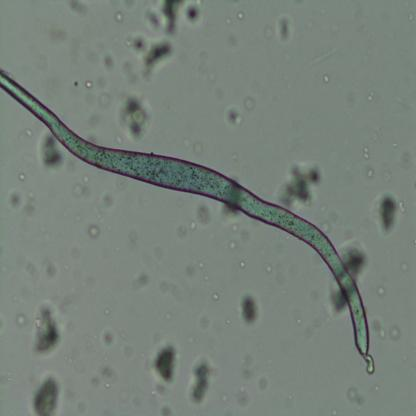Background material: (278, 160, 321, 206), (132, 34, 176, 78), (30, 299, 63, 357), (118, 87, 154, 139), (336, 233, 374, 279), (186, 354, 218, 405), (152, 342, 186, 388), (142, 0, 184, 36), (368, 187, 401, 231), (35, 378, 61, 416), (42, 129, 62, 172), (236, 290, 261, 323), (276, 9, 300, 42), (326, 277, 343, 318), (308, 45, 338, 68), (155, 279, 181, 302), (185, 0, 204, 30), (7, 184, 25, 214), (216, 202, 240, 223), (130, 271, 154, 291), (342, 387, 362, 410), (235, 382, 253, 406), (46, 22, 68, 40), (65, 0, 88, 17), (100, 52, 118, 73), (100, 330, 118, 350), (228, 107, 244, 129), (69, 183, 93, 197), (18, 124, 33, 144), (397, 148, 412, 168), (196, 206, 212, 224), (98, 365, 118, 379), (100, 192, 116, 209), (26, 191, 36, 217), (255, 374, 271, 390), (262, 26, 276, 42), (388, 326, 402, 342), (25, 262, 39, 278), (373, 321, 385, 339), (189, 141, 204, 155), (98, 94, 113, 108), (242, 98, 257, 112), (230, 34, 241, 52), (122, 345, 135, 360), (395, 198, 406, 215), (87, 226, 101, 239), (199, 314, 211, 329), (116, 175, 128, 190), (48, 262, 59, 278), (13, 314, 26, 327), (208, 291, 221, 304), (159, 404, 173, 416), (37, 56, 48, 70), (176, 226, 187, 240), (320, 221, 332, 233), (114, 9, 125, 22), (226, 239, 237, 252), (89, 115, 100, 128), (214, 88, 224, 102), (185, 263, 195, 276), (363, 144, 371, 160), (83, 77, 93, 89), (220, 392, 230, 404), (377, 282, 385, 296), (98, 210, 106, 224), (328, 23, 340, 32), (366, 91, 376, 101), (264, 263, 273, 274), (186, 335, 196, 344), (189, 221, 196, 233), (401, 262, 410, 271), (322, 73, 331, 82), (18, 172, 26, 182), (409, 9, 415, 22), (115, 137, 124, 145), (92, 378, 98, 390), (367, 168, 373, 179), (224, 17, 232, 25), (236, 12, 244, 20), (230, 153, 238, 161), (371, 132, 379, 140), (295, 317, 302, 326), (239, 260, 246, 269), (184, 138, 190, 148), (76, 214, 82, 224), (98, 78, 105, 86), (7, 372, 12, 382), (84, 175, 90, 183), (74, 80, 80, 88), (198, 262, 204, 270), (233, 225, 238, 234), (390, 141, 396, 148), (115, 245, 121, 252), (150, 390, 157, 396), (168, 312, 172, 322), (103, 309, 111, 314), (136, 400, 140, 408), (105, 385, 111, 389), (127, 42, 130, 48), (227, 321, 231, 325)
Microfibre: (0, 69, 376, 372)
